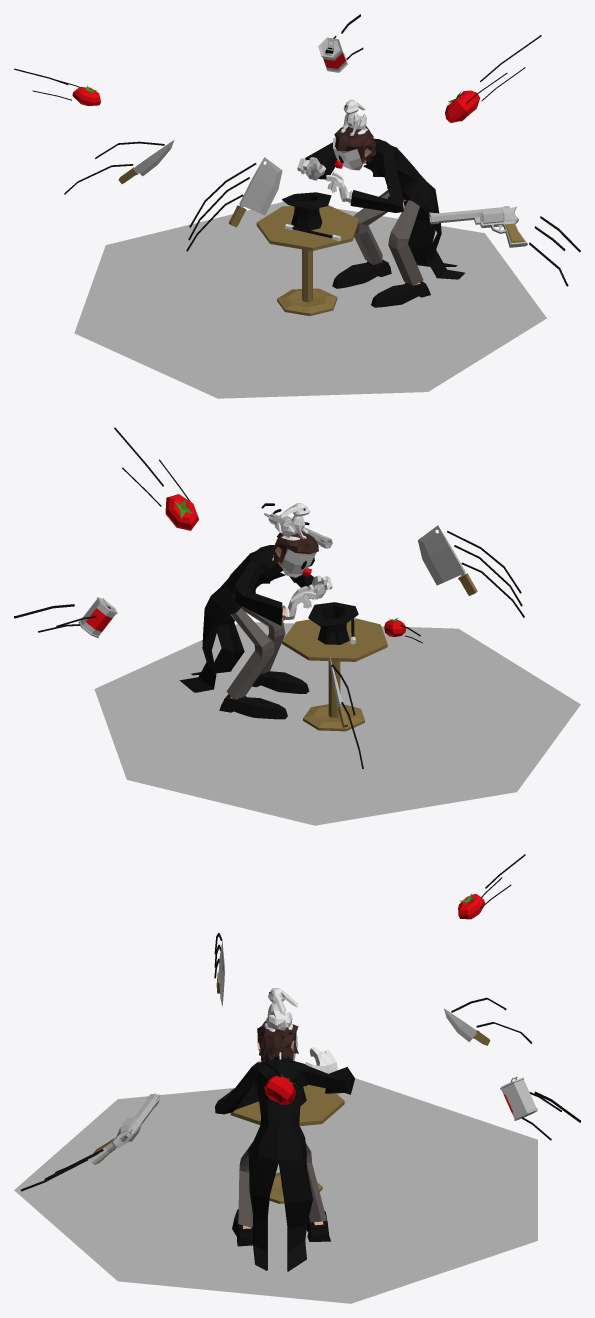
The picture shows the model from 3 angles, top to bottom: view 1: azimuth 30°, elevation 25°; view 2: azimuth 150°, elevation 25°; view 3: azimuth 270°, elevation 25°; orthographic projection. The views are drawn at different scales.
Parts seen in each view (by area): view 1: Circle001, Cylinder.002_2, Cylinder, Cylinder.002_3, Cube.002_0, Cube.001_0, Cylinder001, Cylinder.003_0, Cylinder.002_0, Cylinder.007_1, Cube008, Cube.005_0 (+2 smaller); view 2: Circle001, Cylinder.002_2, Cylinder, Cylinder.002_3, Cube.001_0, Cylinder001, Cylinder.002_0, Cube.005_0, Cylinder.003_0, Cylinder.007_1, Cube008, Cylinder.005_0 (+1 smaller); view 3: Circle001, Cylinder.002_2, Cylinder, Cylinder.002_3, Cylinder.003_0, Cube.002_0, Cylinder.008_0, Cube.005_0, Cylinder.007_1, Cube.
Part boxes in pixels (bbox=[...]): Circle001: bbox=[74, 201, 546, 398]; Cylinder.002_2: bbox=[305, 138, 464, 307]; Cylinder: bbox=[256, 205, 359, 315]; Cylinder.002_3: bbox=[353, 190, 423, 285]; Cube.002_0: bbox=[429, 206, 527, 247]; Cube.001_0: bbox=[239, 157, 282, 215]; Cylinder001: bbox=[282, 192, 331, 230]; Cylinder.003_0: bbox=[334, 126, 376, 163]; Cylinder.002_0: bbox=[297, 157, 351, 203]; Cylinder.007_1: bbox=[445, 90, 479, 122]; Cube008: bbox=[186, 163, 256, 251]; Cube.005_0: bbox=[340, 99, 367, 135]; Circle001: bbox=[94, 622, 580, 825]; Cylinder.002_2: bbox=[179, 545, 313, 719]; Cylinder: bbox=[282, 618, 387, 731]; Cylinder.002_3: bbox=[226, 606, 285, 699]; Cube.001_0: bbox=[418, 525, 465, 585]; Cylinder001: bbox=[308, 602, 358, 644]; Cylinder.002_0: bbox=[272, 550, 332, 620]; Cube.005_0: bbox=[275, 503, 310, 540]; Cylinder.003_0: bbox=[272, 530, 318, 563]; Cylinder.007_1: bbox=[165, 494, 198, 530]; Cube008: bbox=[447, 531, 524, 617]; Cylinder.005_0: bbox=[282, 550, 316, 577]; Circle001: bbox=[14, 1078, 537, 1303]; Cylinder.002_2: bbox=[215, 1054, 354, 1271]; Cylinder: bbox=[230, 1084, 344, 1203]; Cylinder.002_3: bbox=[238, 1142, 326, 1227]; Cylinder.003_0: bbox=[257, 1021, 298, 1061]; Cube.002_0: bbox=[90, 1093, 160, 1164]; Cylinder.008_0: bbox=[500, 1076, 537, 1120]; Cube.005_0: bbox=[264, 988, 297, 1031]; Cylinder.007_1: bbox=[264, 1075, 295, 1104]; Cube: bbox=[444, 1008, 490, 1045].
Size of the model in its own units: 19.1 by 9.47 by 19.26.
